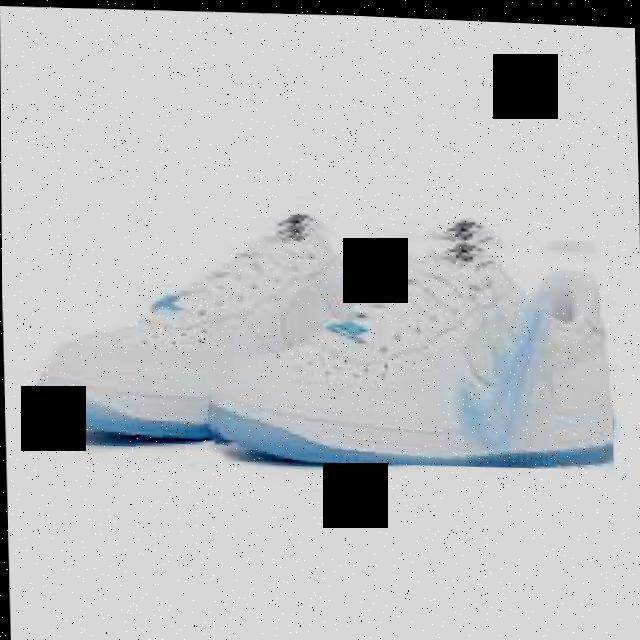shoe: (29, 195, 615, 474), (203, 210, 613, 472)
